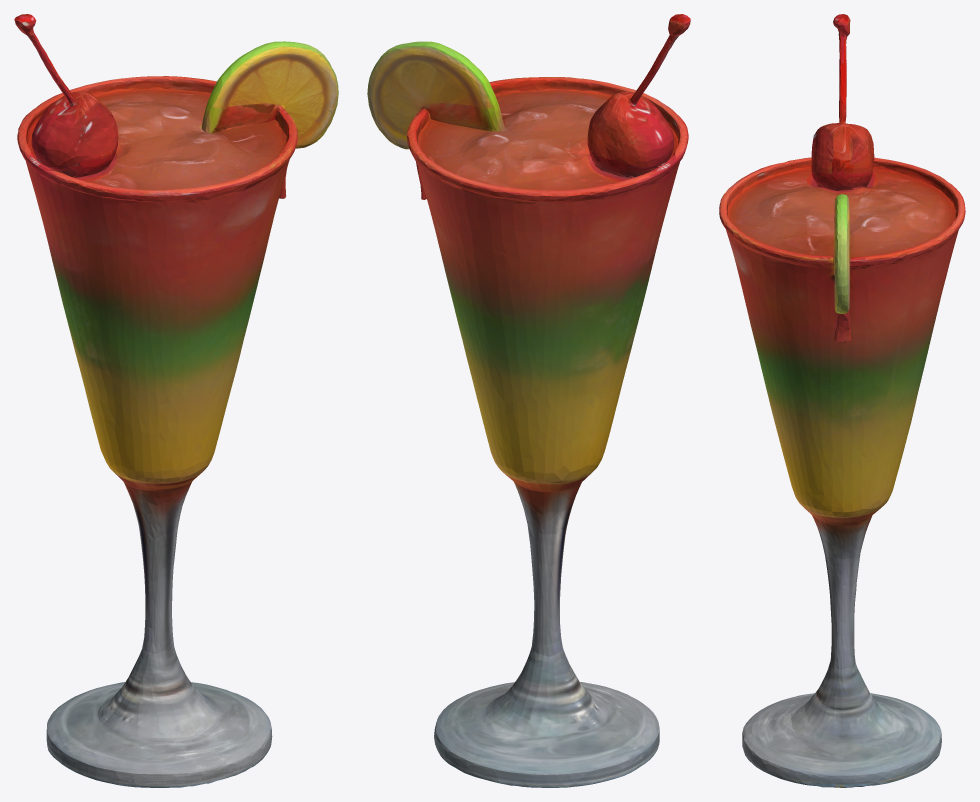
Rendered from coctail_in_bar_0531015133_texture.fbx.
3 views of the same model, side by side, from view 1: azimuth 30°, elevation 25°; view 2: azimuth 150°, elevation 25°; view 3: azimuth 270°, elevation 25° (orthographic). The views are drawn at different scales.
Parts seen in each view (by area): view 1: temp; view 2: temp; view 3: temp.
Boxes of the visible parts, bbox=[...] form: temp: bbox=[14, 14, 338, 787]; temp: bbox=[367, 14, 690, 787]; temp: bbox=[719, 14, 965, 787].
Size of the model in its own units: 88.74 by 200 by 66.39.
Materials: 1 (1 with a texture image).
